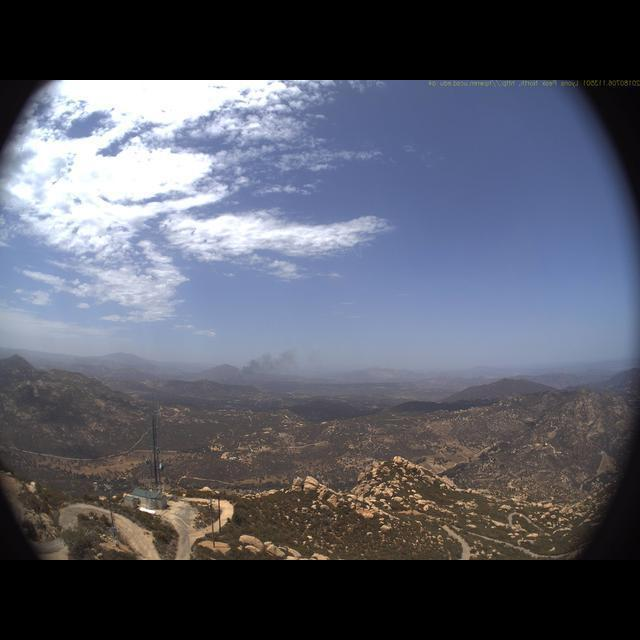Smoke: (200, 343, 304, 396)
